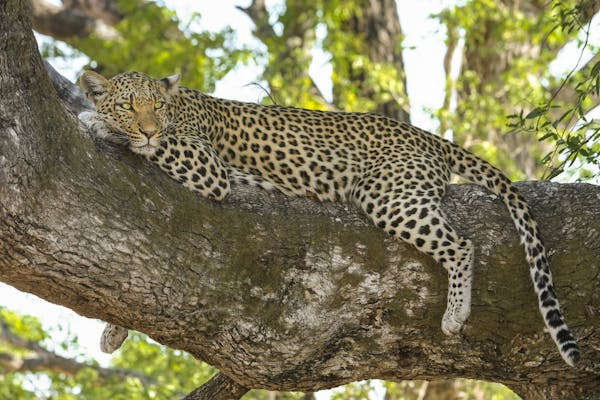Leopard: (79, 69, 580, 366)
